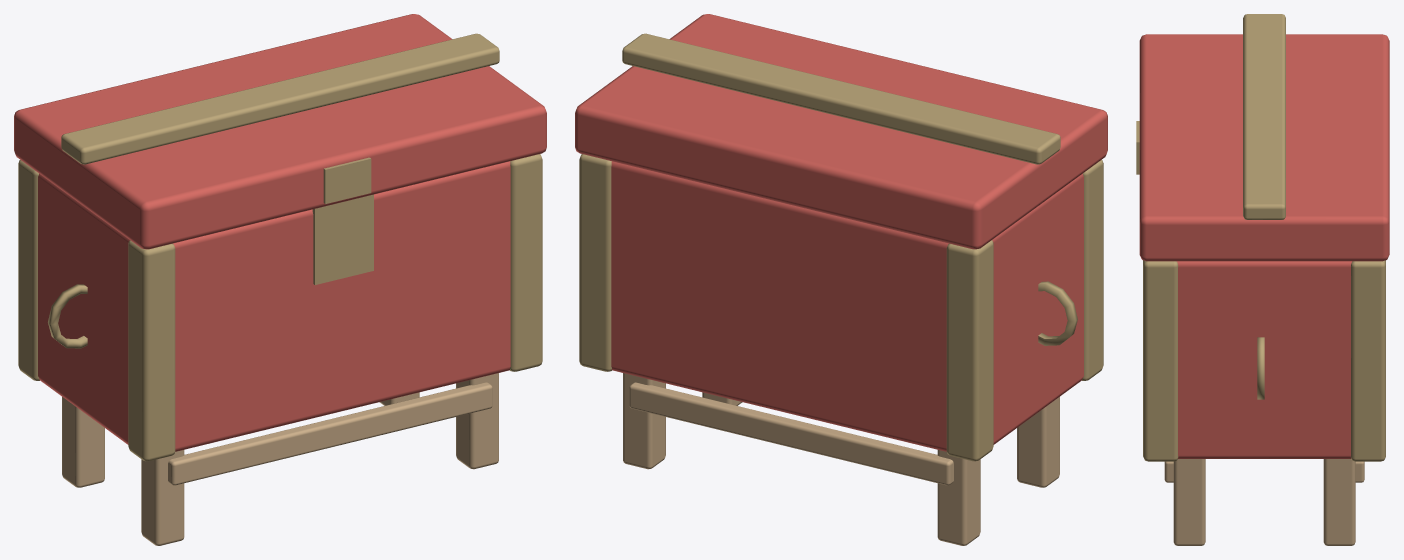
Rendered from chest.glb.
3 renders of one model, left to right at view 1: azimuth 30°, elevation 25°; view 2: azimuth 150°, elevation 25°; view 3: azimuth 270°, elevation 25°, orthographic. The views are drawn at different scales.
Visible parts, largest first — view 1: lacquer-storage-chest, lid/lacquer, lid/bronze; view 2: lacquer-storage-chest, lid/lacquer, lid/bronze; view 3: lacquer-storage-chest, lid/lacquer, lid/bronze.
Part boxes in pixels (bbox=[...]): lacquer-storage-chest: bbox=[18, 154, 542, 545]; lid/lacquer: bbox=[14, 14, 546, 249]; lid/bronze: bbox=[61, 33, 499, 203]; lacquer-storage-chest: bbox=[579, 154, 1103, 545]; lid/lacquer: bbox=[575, 14, 1107, 249]; lid/bronze: bbox=[622, 33, 1060, 164]; lacquer-storage-chest: bbox=[1143, 260, 1385, 545]; lid/lacquer: bbox=[1139, 34, 1389, 261]; lid/bronze: bbox=[1136, 14, 1285, 219].
Bounding box in the file's own units: 1.42 × 1.11 × 0.709.
